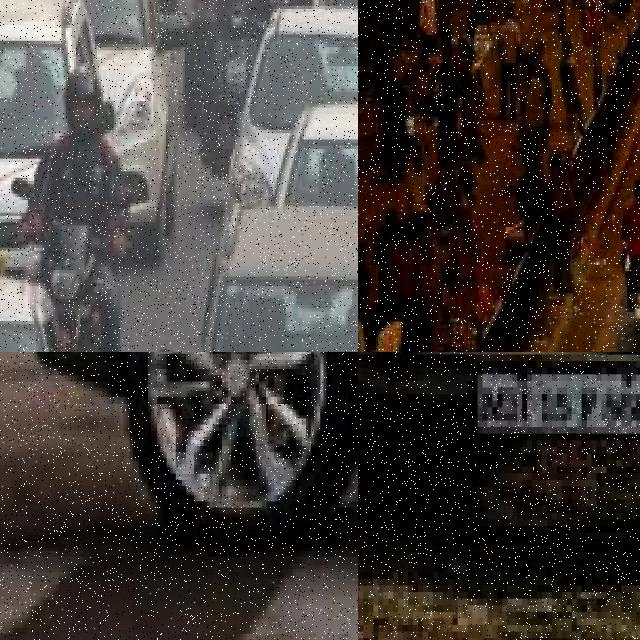bike: (21, 203, 136, 352), (189, 0, 272, 171), (612, 252, 640, 346)
car: (12, 352, 358, 563), (358, 352, 640, 559)
